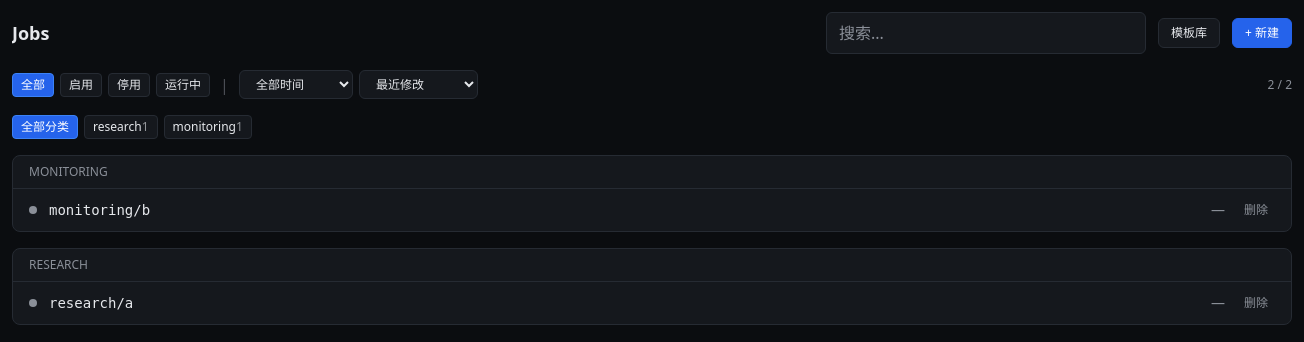
Test case: Jobs category picker › filters the list by category
This screenshot has width=1304, height=342.
Expected: the text "research/a" is shown, [49,295,133,311]
Click the button titled "monitoring：1 个 job". click: (208,127)
box: [164,115,252,139]
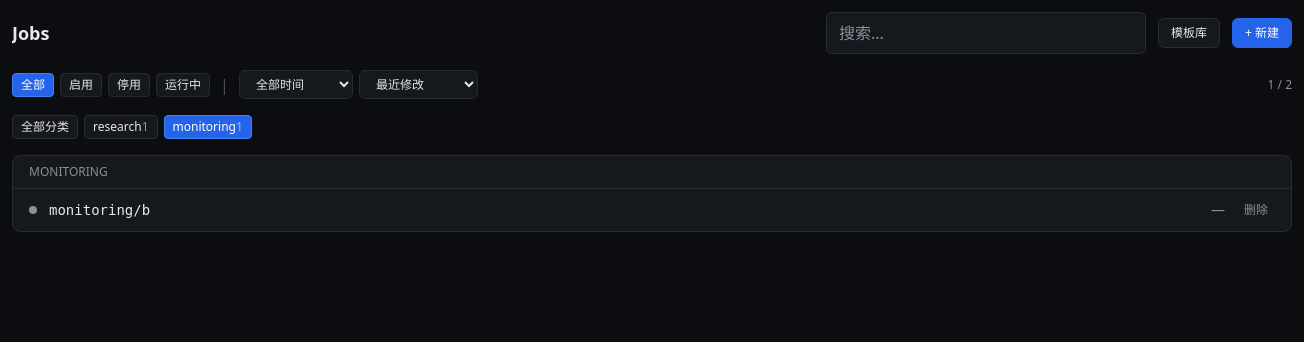
Expected: the text "monitoring/b" is shown, [49,202,150,218]
Now the link "research/a" is gone
